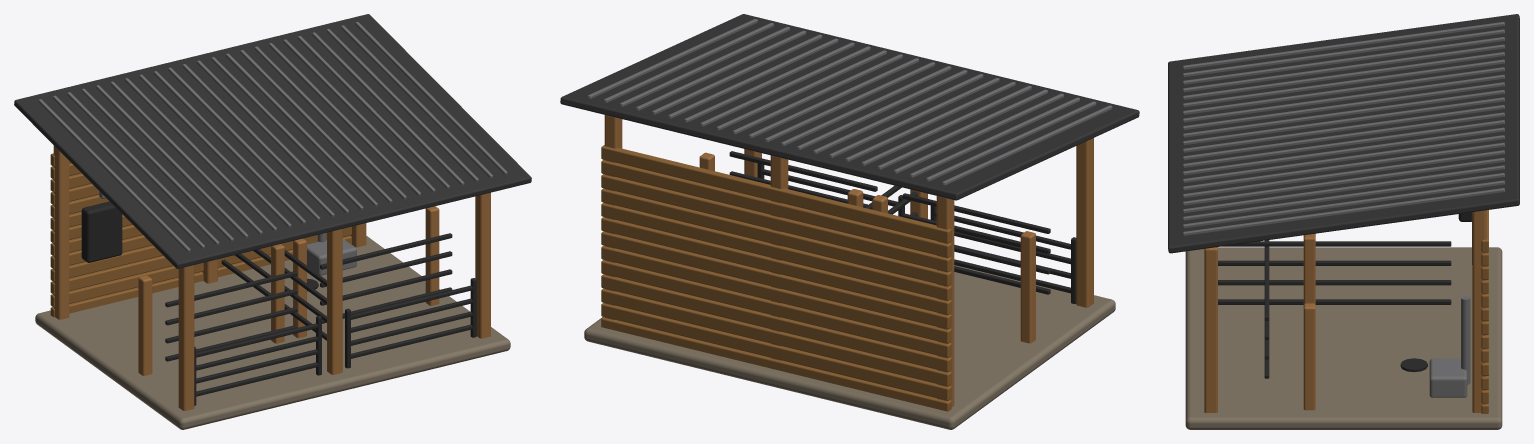
The model's file is breeding-barn.glb.
The picture shows the model from 3 angles, left to right: view 1: azimuth 30°, elevation 25°; view 2: azimuth 150°, elevation 25°; view 3: azimuth 270°, elevation 25°; orthographic projection. The views are drawn at different scales.
Visible parts, largest first — view 1: breeding-barn-farm-roof-slate, breeding-barn-farm-stone, breeding-barn-farm-metal, breeding-barn-farm-window, breeding-barn-farm-wood, breeding-barn-farm-wood-dark; view 2: breeding-barn-farm-wood-dark, breeding-barn-farm-roof-slate, breeding-barn-farm-metal, breeding-barn-farm-stone, breeding-barn-farm-wood, breeding-barn-farm-window; view 3: breeding-barn-farm-stone, breeding-barn-farm-roof-slate, breeding-barn-farm-metal, breeding-barn-farm-wood, breeding-barn-farm-window, breeding-barn-farm-wood-dark.
Boxes of the visible parts, x1=… form: breeding-barn-farm-roof-slate: x1=14, y1=14, x2=531, y2=268; breeding-barn-farm-stone: x1=35, y1=236, x2=510, y2=429; breeding-barn-farm-metal: x1=38, y1=22, x2=507, y2=275; breeding-barn-farm-window: x1=81, y1=201, x2=476, y2=405; breeding-barn-farm-wood: x1=53, y1=145, x2=490, y2=410; breeding-barn-farm-wood-dark: x1=50, y1=153, x2=351, y2=317; breeding-barn-farm-wood-dark: x1=601, y1=145, x2=951, y2=411; breeding-barn-farm-roof-slate: x1=560, y1=14, x2=1139, y2=200; breeding-barn-farm-metal: x1=587, y1=19, x2=1112, y2=185; breeding-barn-farm-stone: x1=584, y1=265, x2=1115, y2=429; breeding-barn-farm-wood: x1=604, y1=115, x2=1093, y2=407; breeding-barn-farm-window: x1=729, y1=151, x2=1076, y2=303; breeding-barn-farm-stone: x1=1185, y1=247, x2=1502, y2=429; breeding-barn-farm-roof-slate: x1=1168, y1=14, x2=1519, y2=253; breeding-barn-farm-metal: x1=1183, y1=22, x2=1504, y2=397; breeding-barn-farm-wood: x1=1204, y1=210, x2=1486, y2=412; breeding-barn-farm-window: x1=1218, y1=212, x2=1472, y2=378; breeding-barn-farm-wood-dark: x1=1481, y1=210, x2=1488, y2=413.
Bounding box in the file's own units: 5.15 × 3.08 × 4.11.
